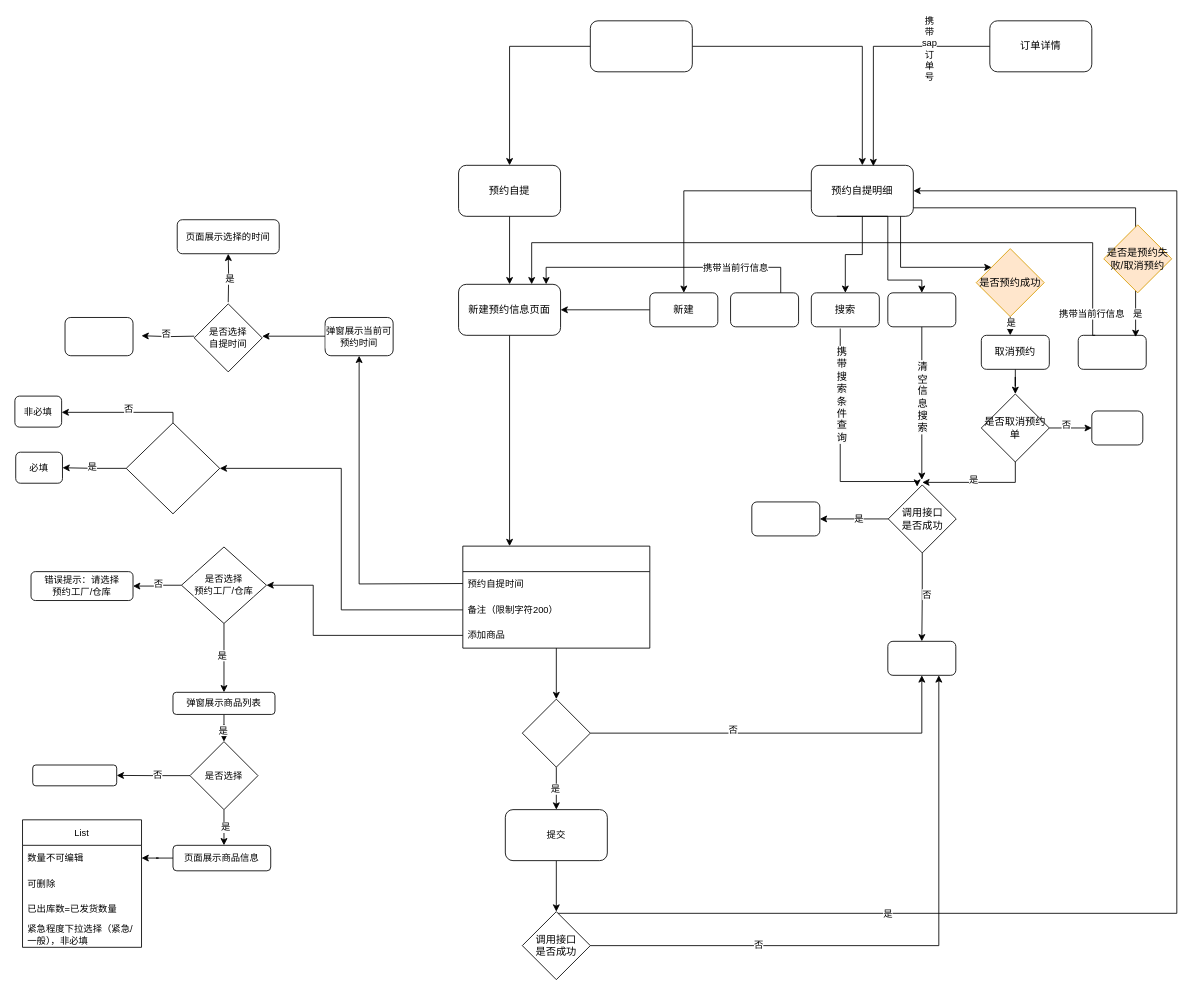
This 1199x995 diagram has some shape labels left out. The shapes that lost their labels are listed below. From the top down, each one's box as (x1, y1, x2, y2) in pixels, then its label:
(589, 20, 692, 72): 订单列表
(730, 292, 799, 327): 查看详情
(887, 292, 956, 327): 重置
(64, 317, 133, 356): 提示请选择自提时间
(1077, 334, 1146, 369): 再次发起
(1091, 410, 1143, 445): 取消弹窗
(125, 422, 220, 514): 商品中是否存在 紧急的商品
(751, 501, 820, 536): 刷新列表
(462, 545, 650, 648): Form
(887, 640, 956, 675): 提示错误信息
(521, 698, 590, 767): 校验通过
(32, 764, 117, 786): 提示：请选择商品
